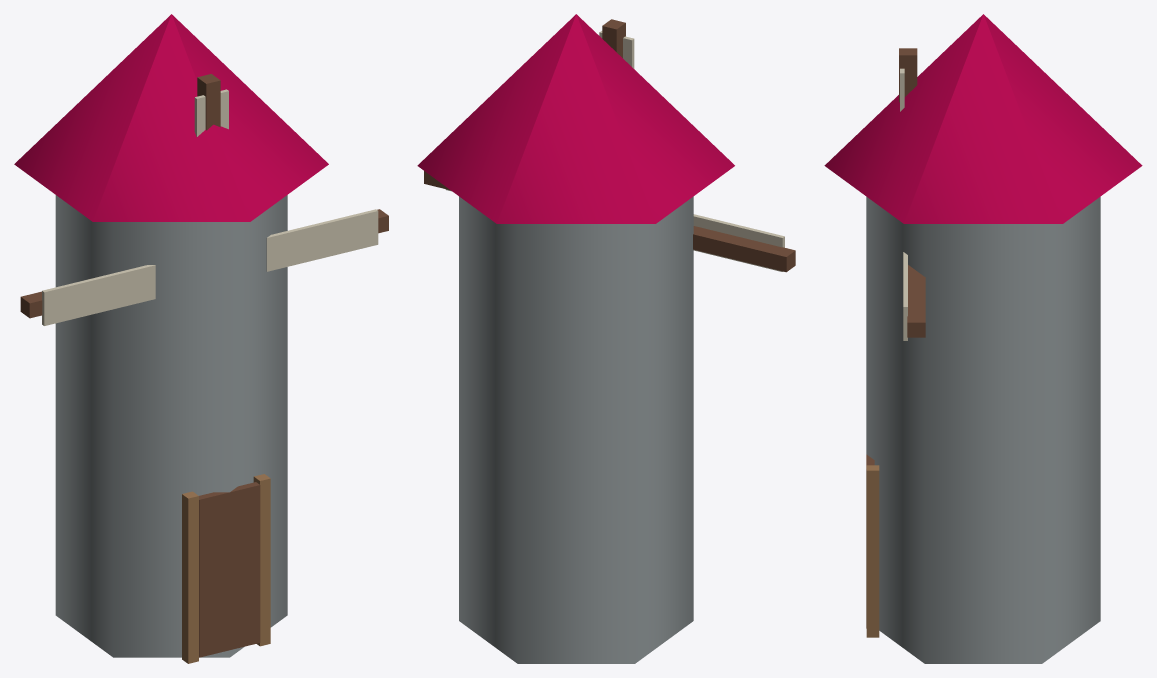
The model's file is windmill.glb.
3 renders of one model, left to right at view 1: azimuth 30°, elevation 25°; view 2: azimuth 150°, elevation 25°; view 3: azimuth 270°, elevation 25°, orthographic.
Size of the model in its own units: 5 by 8 by 3.8.
